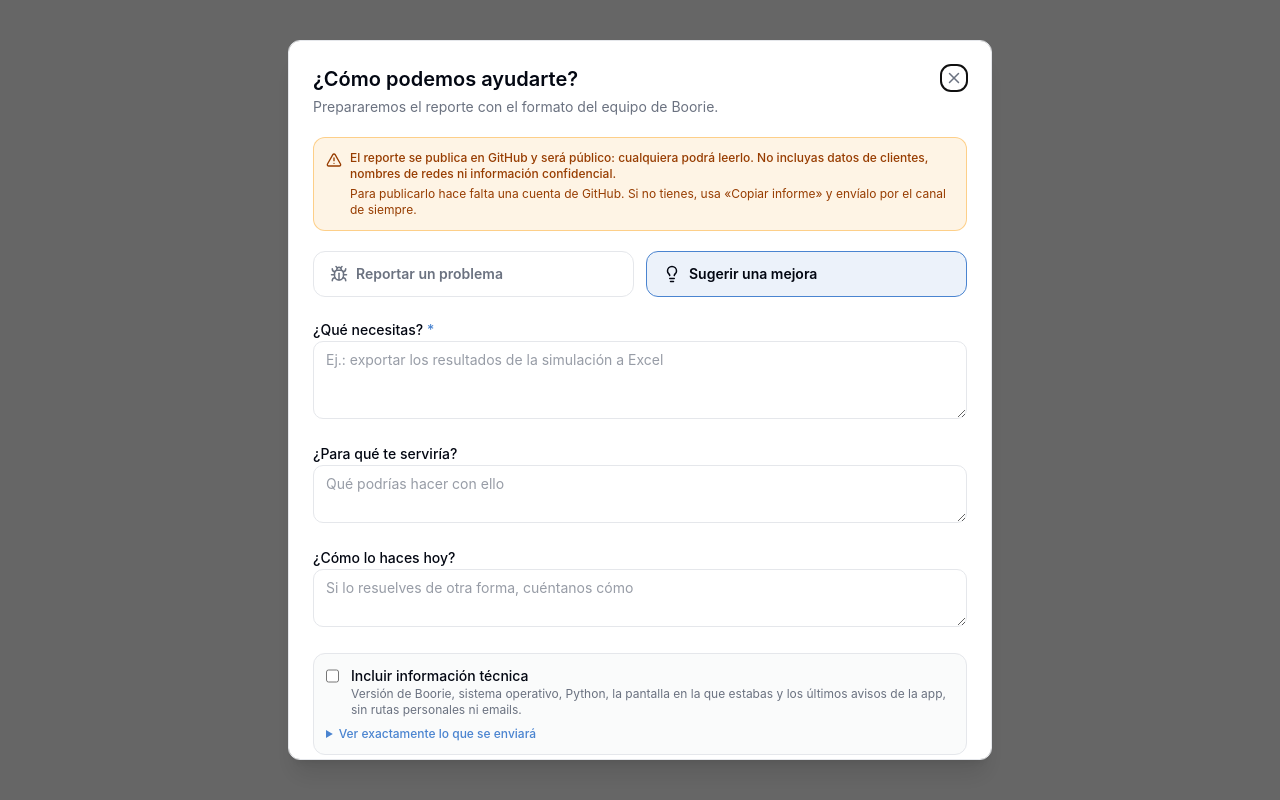
DialogoAyuda › «Copiar informe» usa el mismo canal y lo confirma (D1)
The width and height of the screenshot is (1280, 800).
Type "Exportar a Excel" into the text box with placeholder "Ej.: exportar los resultados de la simulación a Excel" at [640, 380], box [313,341,967,419]
(page scrolled)
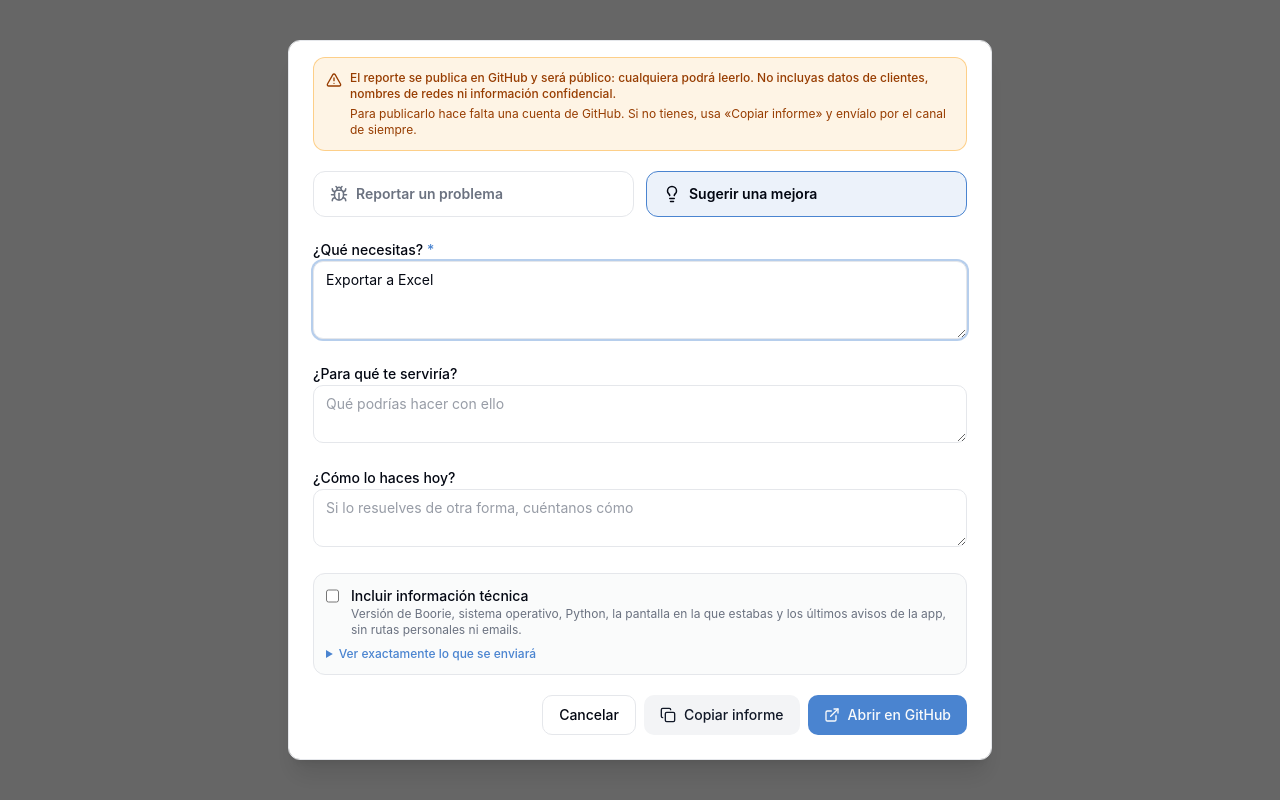
Click the button "Copiar informe" at [722, 715], box [644,695,800,735]
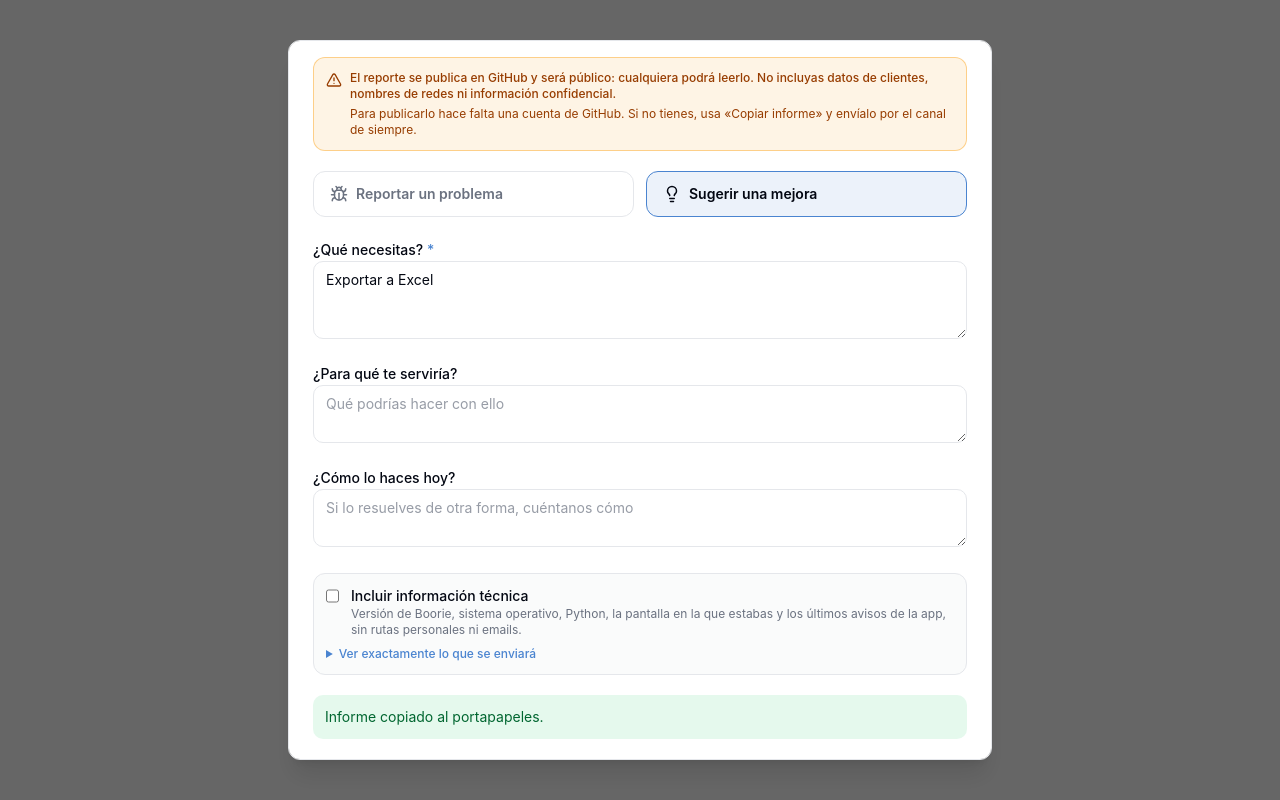
Result: the text "Informe copiado al portapapeles." is shown at [325,708,544,725]
